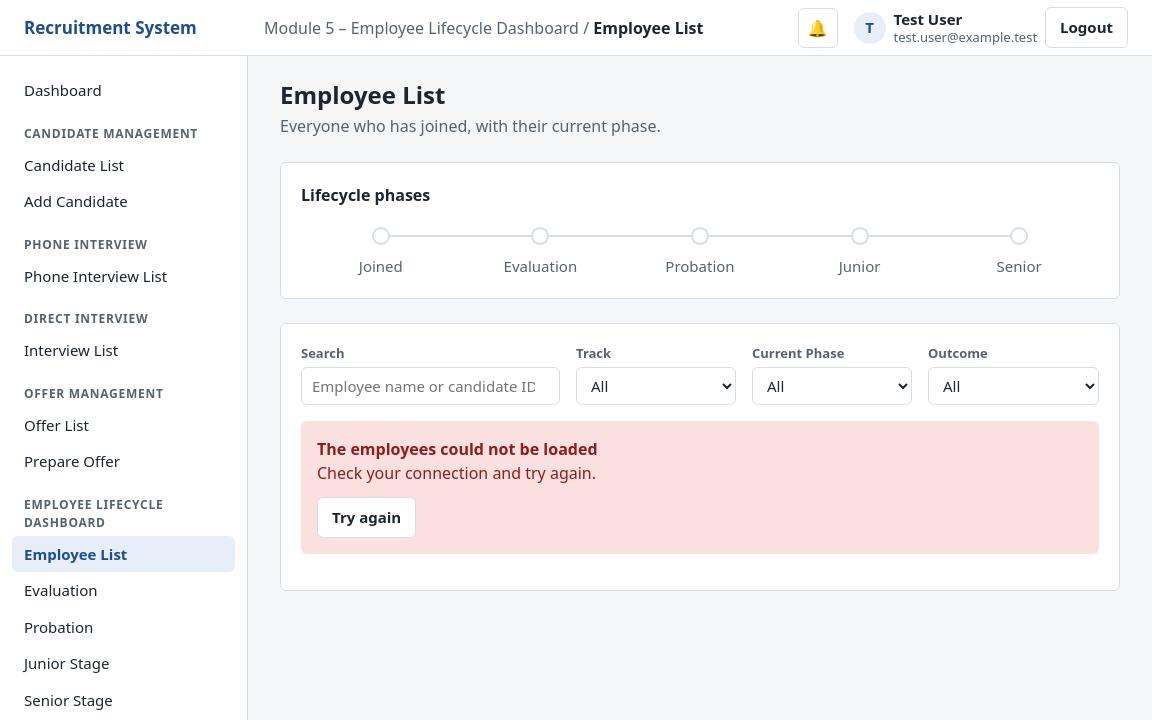
it: employee list › shows an error when the backend fails, and Try again recovers
Expected: the text "The employees could not be loaded" is shown, [317,438,598,460]
Click the button "Try again".
click(367, 517)  # box [317,497,416,538]
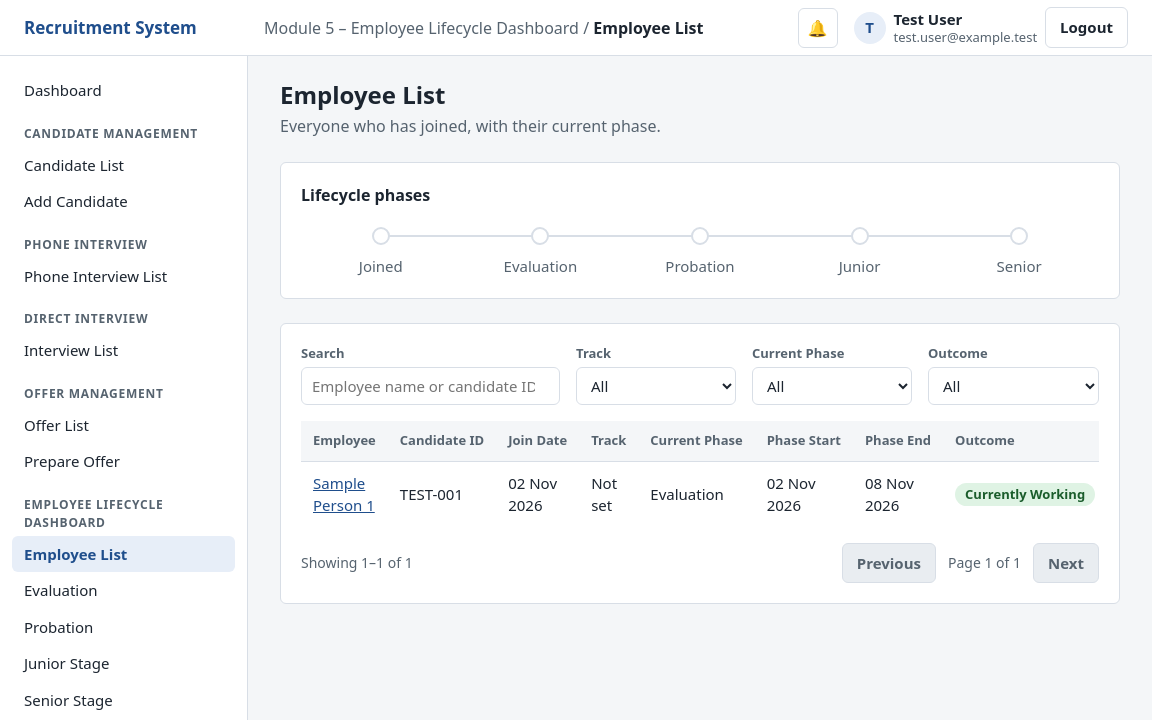
Now the link "Sample Person 1" is shown, box [313,472,375,515]
